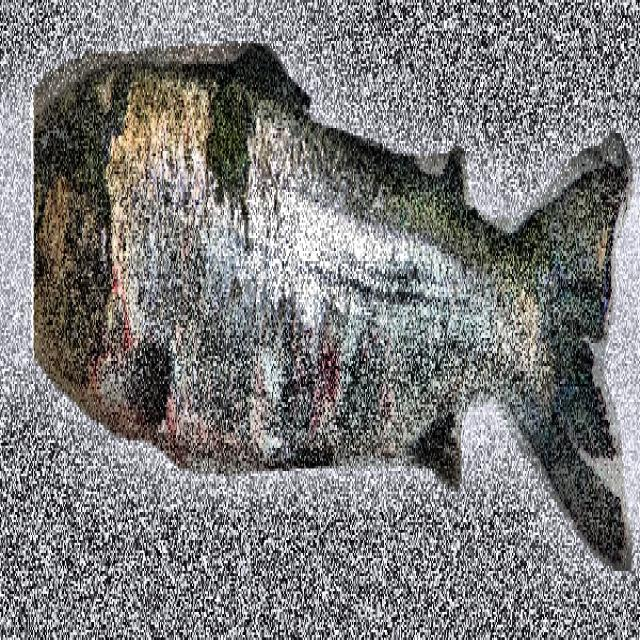mild_red: (97, 74, 548, 466)
